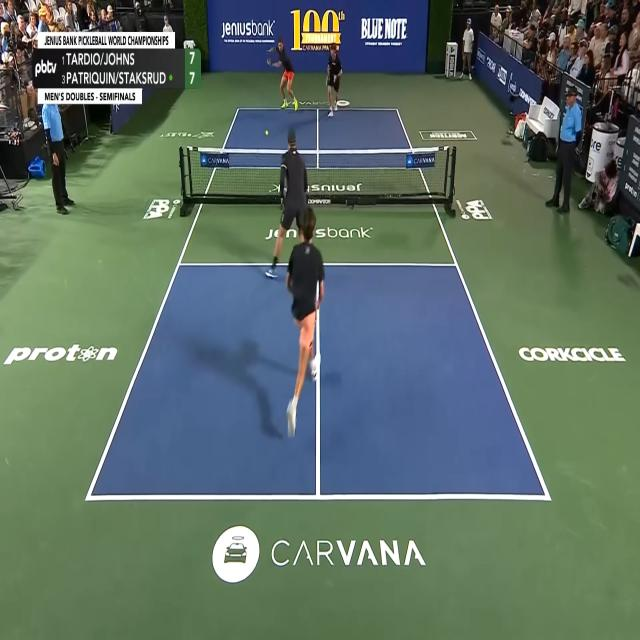ball: (265, 130, 269, 136)
